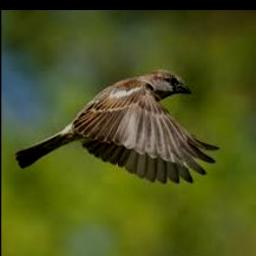Sparrow: (15, 69, 219, 183)
